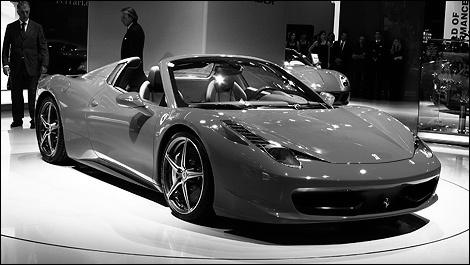car: (35, 56, 442, 228)
